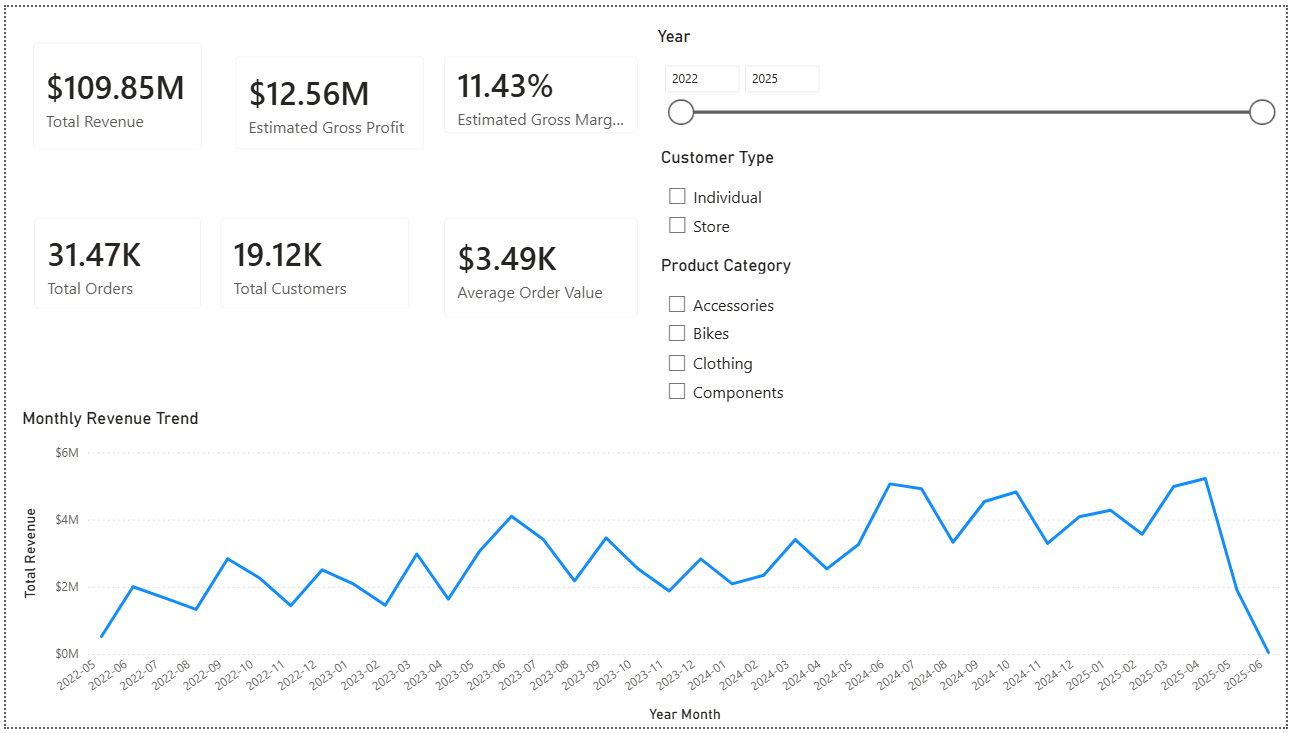

The dashboard page shown, as its layout file describes it:
{"tool":"powerbi","page":{"name":"Executive Overview","canvas":[1280,720],"ordinal":0},"visuals":[{"type":"cardVisual","fields":{"Data":["vw_sales_analysis.Total Revenue"]},"box":[10,18.8,203.1,141.7],"z":0},{"type":"cardVisual","fields":{"Data":["vw_sales_analysis.Total Orders"]},"box":[11.7,193.5,201.9,125.4],"z":1},{"type":"cardVisual","fields":{"Data":["vw_sales_analysis.Average Order Value"]},"box":[420.7,193.5,228.2,134.2],"z":2},{"type":"cardVisual","fields":{"Data":["vw_sales_analysis.Total Gross Profit"]},"box":[211.9,32.6,223.2,127.9],"z":3},{"type":"cardVisual","fields":{"Data":["vw_sales_analysis.Gross Margin %"]},"box":[420.7,32.5,228.5,111.7],"z":4},{"type":"cardVisual","fields":{"Data":["vw_sales_analysis.Total Customers"]},"box":[197.4,193.5,223.2,125.4],"z":5},{"type":"lineChart","title":"Monthly Revenue Trend","fields":{"Category":["DimDate.Year Month"],"Y":["vw_sales_analysis.Total Revenue"]},"box":[11.3,401.3,1269,318.5],"z":6},{"type":"slicer","title":" Year","fields":{"Values":["DimDate.Year"]},"box":[645.8,18.8,630.7,125.4],"z":7},{"type":"slicer","title":"Customer Type","fields":{"Values":["vw_customer_rfm.customer_type"]},"box":[649.5,140.4,627,97.8],"z":8},{"type":"slicer","title":"Product Category","fields":{"Values":["vw_product_abc.category_name"]},"box":[649.5,247,630.7,165.5],"z":9}]}

Visuals, with their boxes in screenshot pixels (x1, y1, x2, y2), scaled from the page's 1280x720 canvas onto the 1293x733 screenshot:
cardVisual - vw_sales_analysis.Total Revenue: region(10, 19, 215, 163)
cardVisual - vw_sales_analysis.Total Orders: region(12, 197, 216, 325)
cardVisual - vw_sales_analysis.Average Order Value: region(425, 197, 655, 334)
cardVisual - vw_sales_analysis.Total Gross Profit: region(214, 33, 440, 163)
cardVisual - vw_sales_analysis.Gross Margin %: region(425, 33, 656, 147)
cardVisual - vw_sales_analysis.Total Customers: region(199, 197, 425, 325)
"Monthly Revenue Trend" lineChart: region(11, 409, 1292, 732)
" Year" slicer: region(652, 19, 1289, 147)
"Customer Type" slicer: region(656, 143, 1289, 243)
"Product Category" slicer: region(656, 251, 1292, 420)
